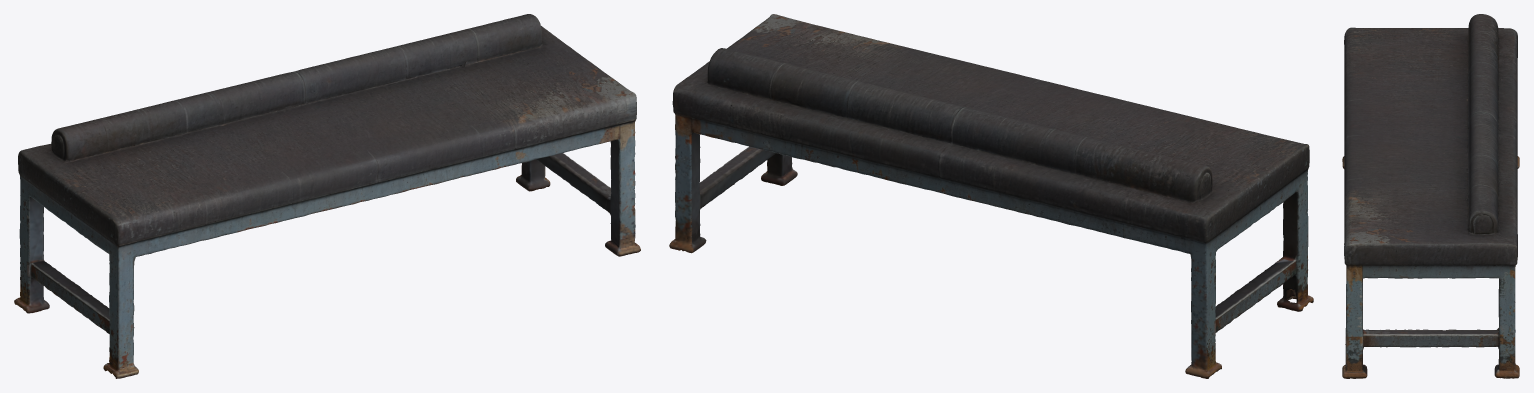
The model's file is LongBench.glb.
The picture shows the model from 3 angles, left to right: view 1: azimuth 30°, elevation 25°; view 2: azimuth 150°, elevation 25°; view 3: azimuth 270°, elevation 25°; orthographic projection. The views are drawn at different scales.
Parts seen in each view (by area): view 1: texture_mapping; view 2: texture_mapping; view 3: texture_mapping.
Part boxes in pixels (x1=…): texture_mapping: x1=14, y1=14, x2=640, y2=378; texture_mapping: x1=669, y1=14, x2=1313, y2=378; texture_mapping: x1=1342, y1=14, x2=1519, y2=378.
Bounding box in the file's own units: 1 × 0.336 × 0.3426.
Materials: 1 (1 with a texture image).
